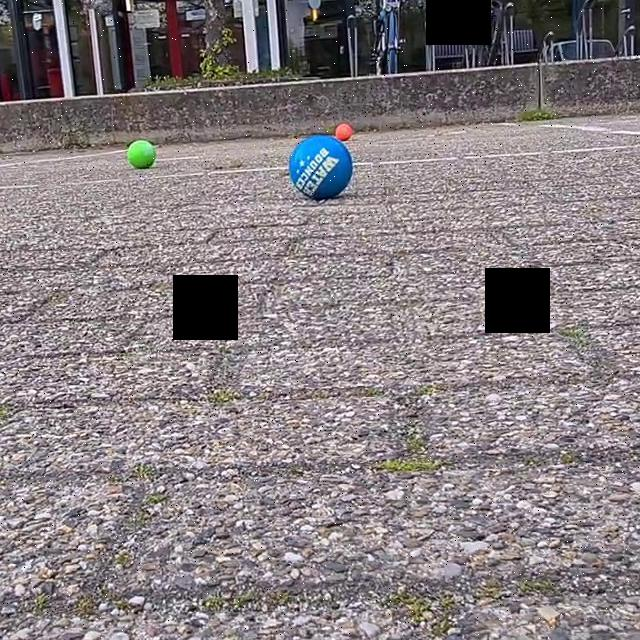ball: (125, 138, 157, 168), (334, 119, 357, 148)
